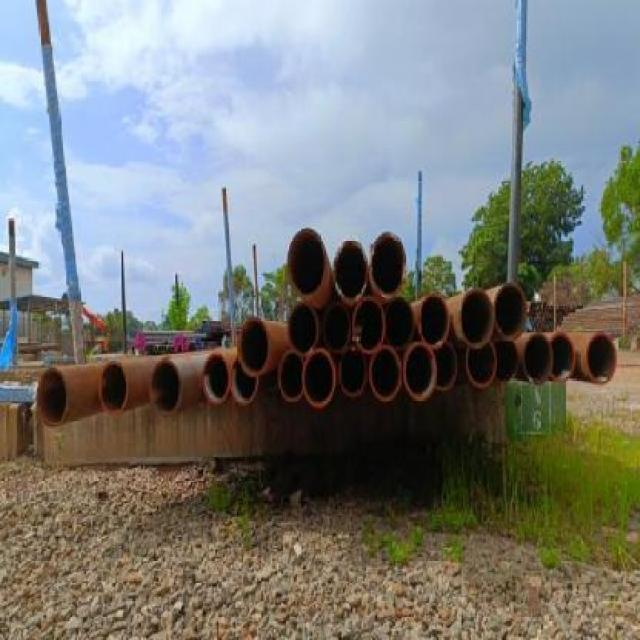pipe: (286, 225, 326, 301), (331, 235, 368, 303), (368, 231, 405, 297), (457, 286, 495, 346), (148, 357, 184, 420), (401, 339, 437, 402), (34, 365, 69, 428), (236, 315, 271, 377), (302, 346, 336, 409), (351, 294, 385, 356), (494, 278, 527, 340), (285, 300, 319, 358), (416, 292, 450, 348), (99, 358, 130, 417), (369, 343, 400, 402), (385, 295, 416, 354), (522, 331, 553, 387), (586, 328, 617, 383), (465, 337, 498, 388), (200, 351, 231, 405), (337, 343, 368, 396), (322, 300, 351, 353), (277, 349, 305, 402), (548, 329, 576, 382), (230, 356, 259, 407), (433, 340, 459, 391), (493, 334, 519, 385)
